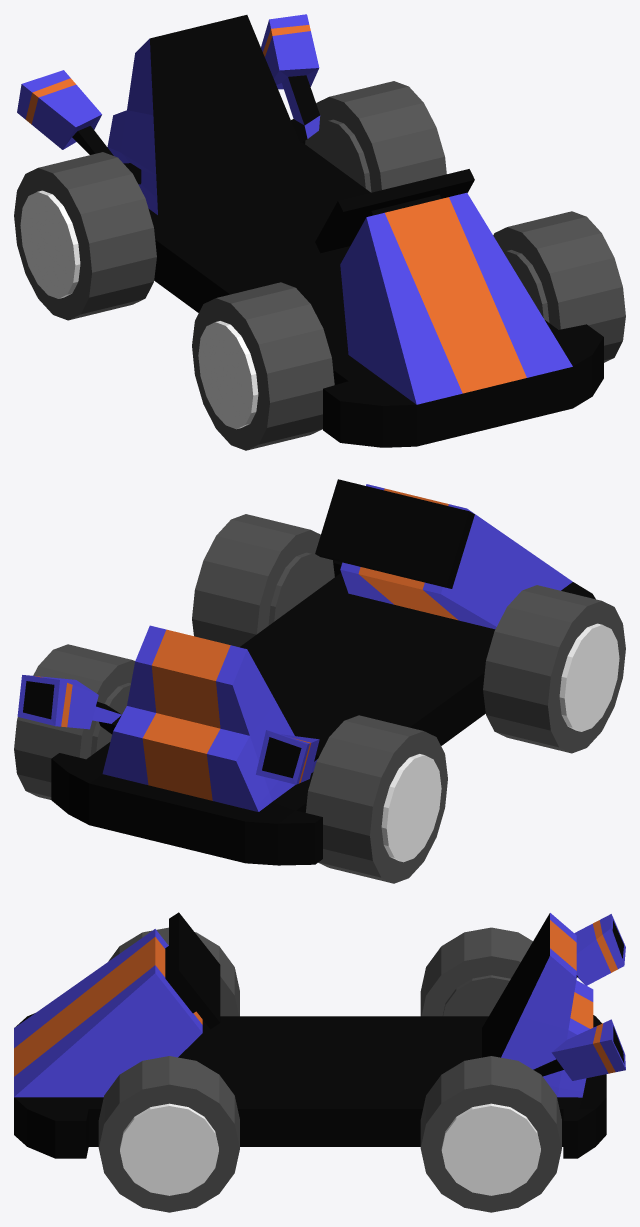
Rendered from Kart_Ground.fbx.
3 renders of one model, top to bottom at view 1: azimuth 30°, elevation 25°; view 2: azimuth 150°, elevation 25°; view 3: azimuth 270°, elevation 25°, orthographic. The views are drawn at different scales.
Parts seen in each view (by area): view 1: Kart_Ground, Wheel_FL.003, Wheel_FL.001, Wheel_FL, Wheel_FL.002; view 2: Kart_Ground, Wheel_FL.001, Wheel_FL.003, Wheel_FL, Wheel_FL.002; view 3: Kart_Ground, Wheel_FL.002, Wheel_FL, Wheel_FL.003, Wheel_FL.001.
Part boxes in pixels (x1=…): Kart_Ground: x1=17, y1=14, x2=603, y2=447; Wheel_FL.003: x1=14, y1=152, x2=156, y2=320; Wheel_FL.001: x1=192, y1=282, x2=334, y2=450; Wheel_FL: x1=493, y1=211, x2=625, y2=362; Wheel_FL.002: x1=305, y1=81, x2=446, y2=192; Kart_Ground: x1=17, y1=479, x2=595, y2=865; Wheel_FL.001: x1=483, y1=585, x2=625, y2=753; Wheel_FL.003: x1=305, y1=715, x2=447, y2=883; Wheel_FL: x1=192, y1=514, x2=334, y2=647; Wheel_FL.002: x1=14, y1=644, x2=134, y2=799; Kart_Ground: x1=14, y1=912, x2=625, y2=1158; Wheel_FL.002: x1=420, y1=1056, x2=561, y2=1212; Wheel_FL: x1=98, y1=1056, x2=239, y2=1212; Wheel_FL.003: x1=420, y1=927, x2=532, y2=1016; Wheel_FL.001: x1=108, y1=927, x2=239, y2=1016.
Size of the model in its own units: 91.27 by 146 by 52.68.
